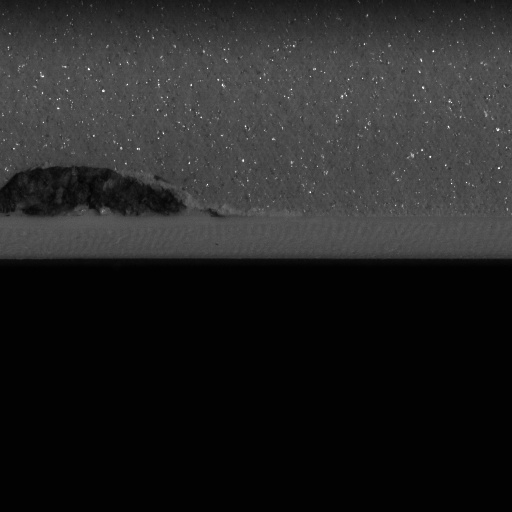bengque: (0, 162, 189, 218)
